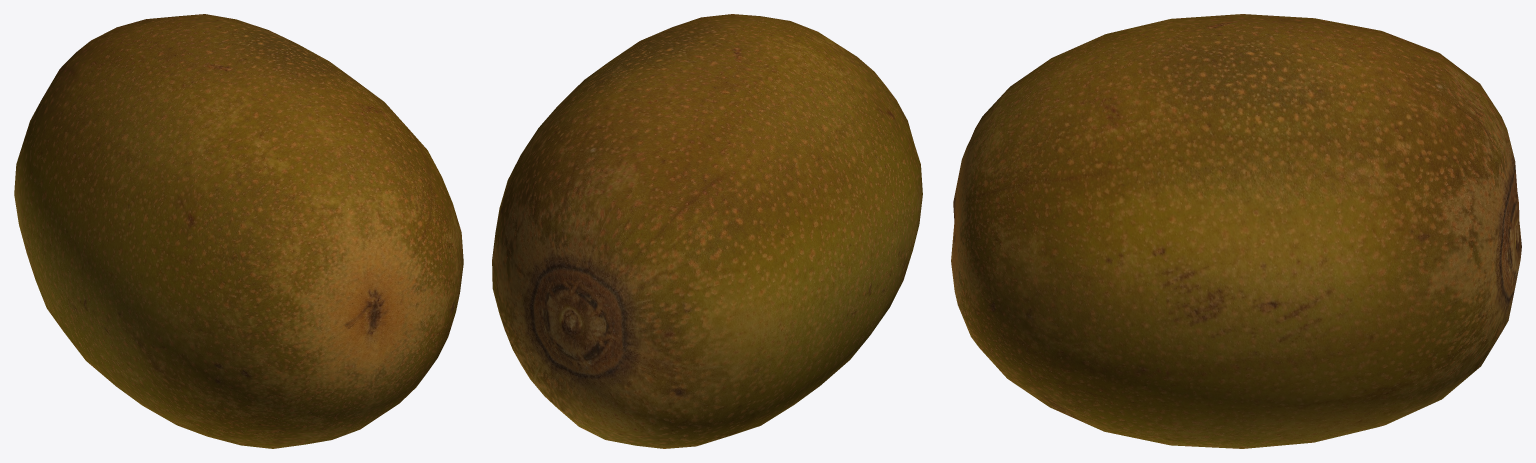
3 renders of one model, left to right at view 1: azimuth 30°, elevation 25°; view 2: azimuth 150°, elevation 25°; view 3: azimuth 270°, elevation 25°, orthographic. The views are drawn at different scales.
Parts seen in each view (by area): view 1: Kiwi; view 2: Kiwi; view 3: Kiwi.
Part boxes in pixels (left/top/right/bottom): Kiwi: left=14, top=14, right=463, bottom=448; Kiwi: left=492, top=14, right=922, bottom=448; Kiwi: left=951, top=14, right=1521, bottom=448.
Bounding box in the file's own units: 0.0451 × 0.0486 × 0.0631.
1 material, 1 textured.
